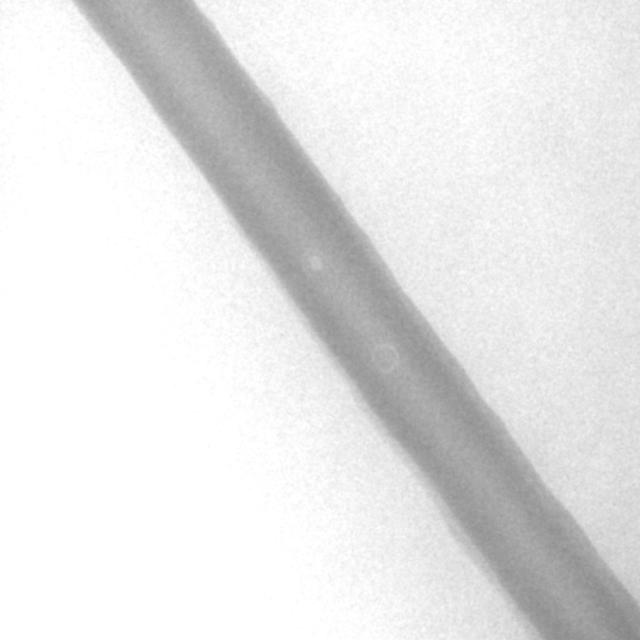air-hole: (311, 254, 323, 275)
